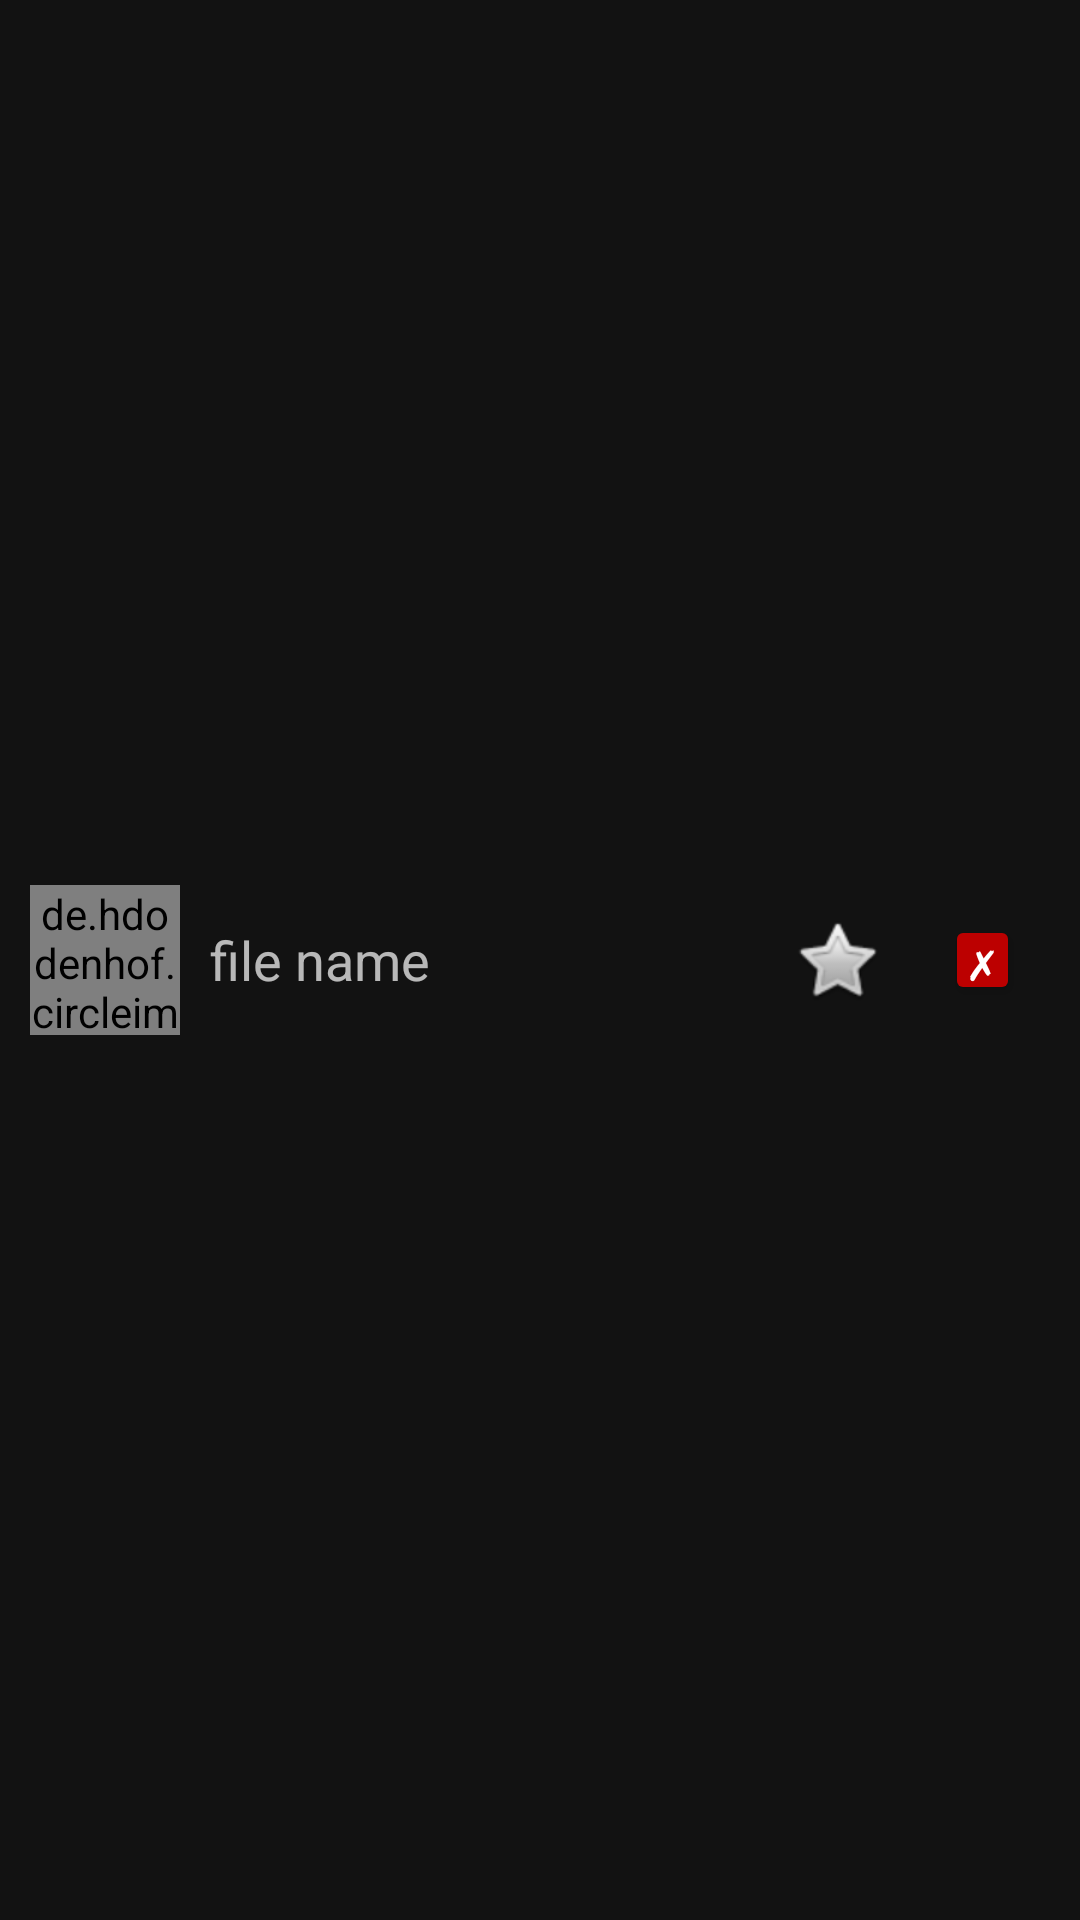

Locate icon controls on the screen. Image size 1080w x 1920h, boxes as (x1, y1, x2, y2).
star off: (799, 923, 876, 996)
